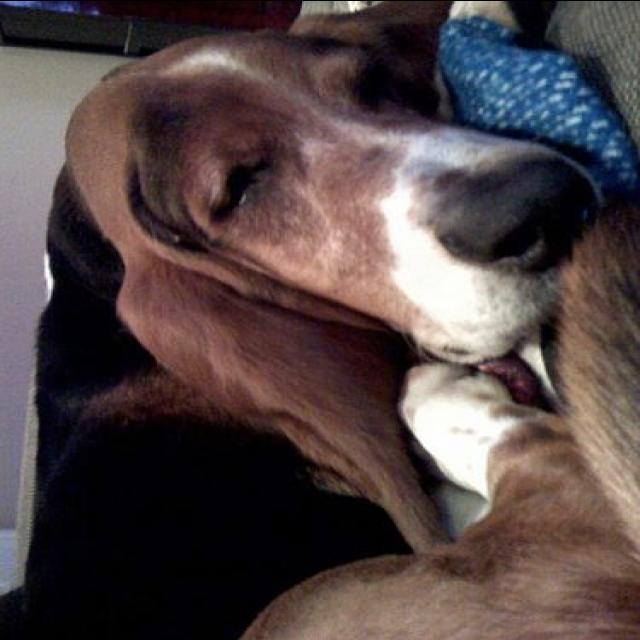basset: (25, 3, 595, 640)
